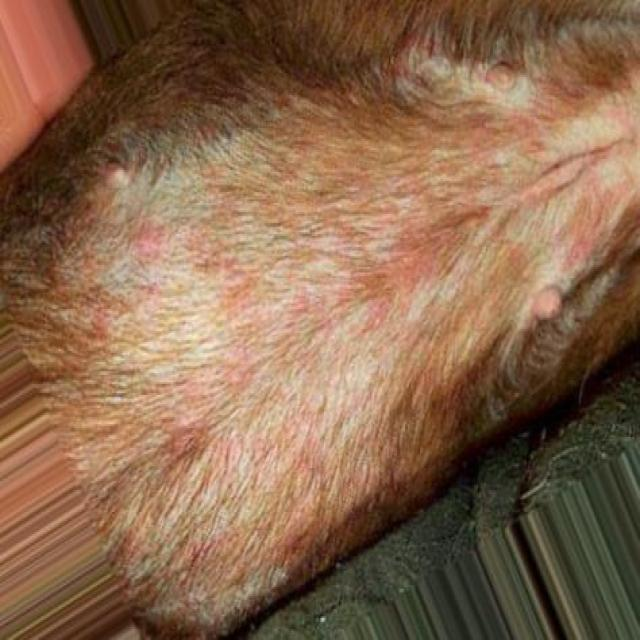di ung bo chet: (61, 95, 640, 407)
